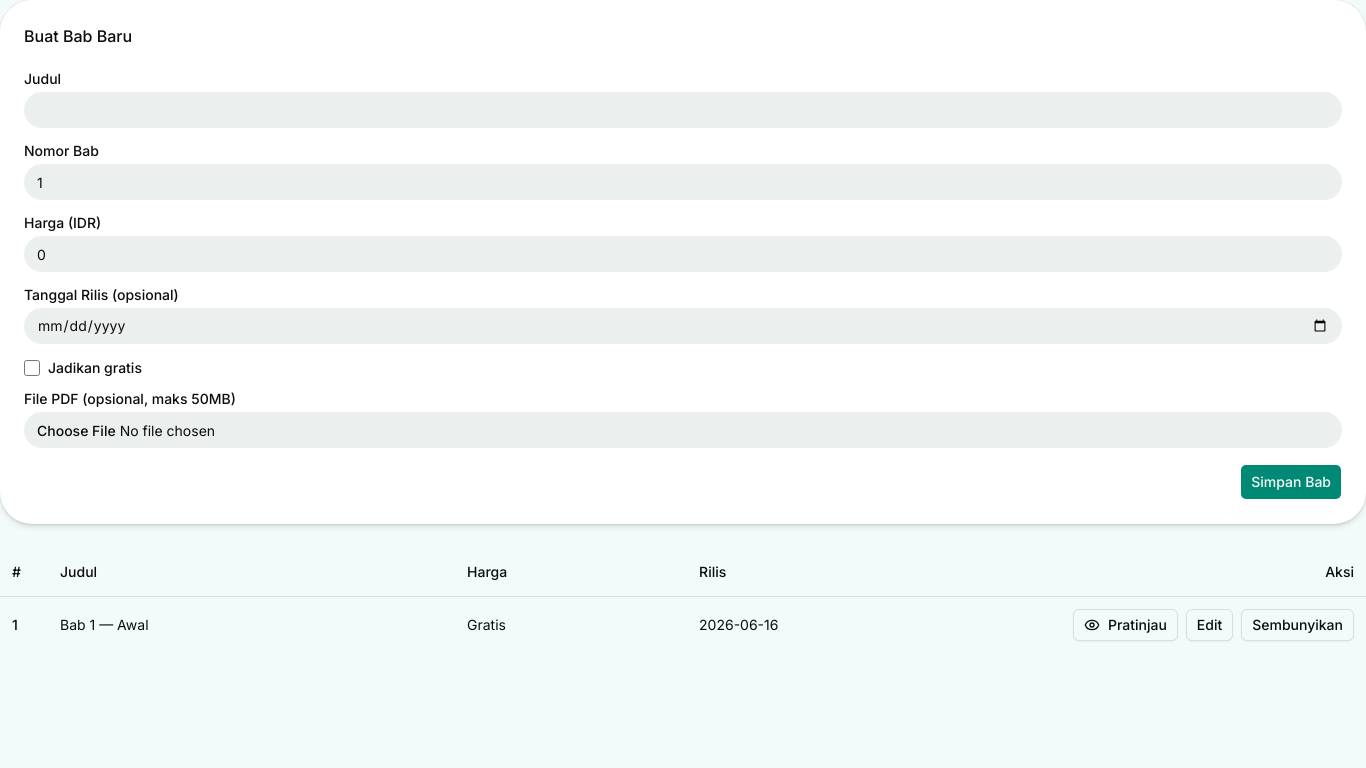
Scenario: ChapterForm › switches to edit mode when Edit button is clicked and pre-populates fields from the chapter
Click the button "Edit": click(1210, 624) [1186,608,1233,640]
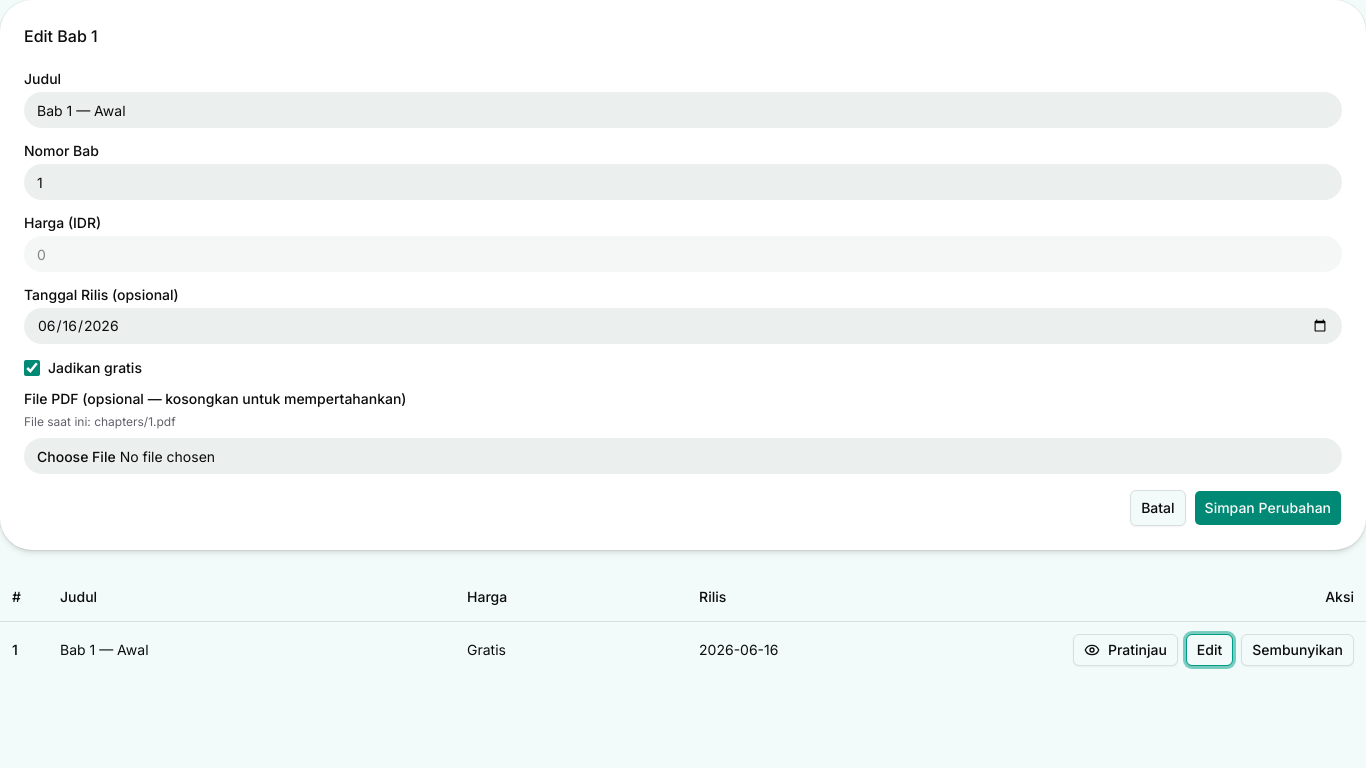
Now the text "Edit Bab 1" is shown, box [24,26,98,46]
Now the field labelled "Judul" holds "Bab 1 — Awal", box [24,92,1342,128]
Now the date field labelled "Tanggal Rilis (opsional)" holds "2026-06-16", box [24,308,1342,344]
